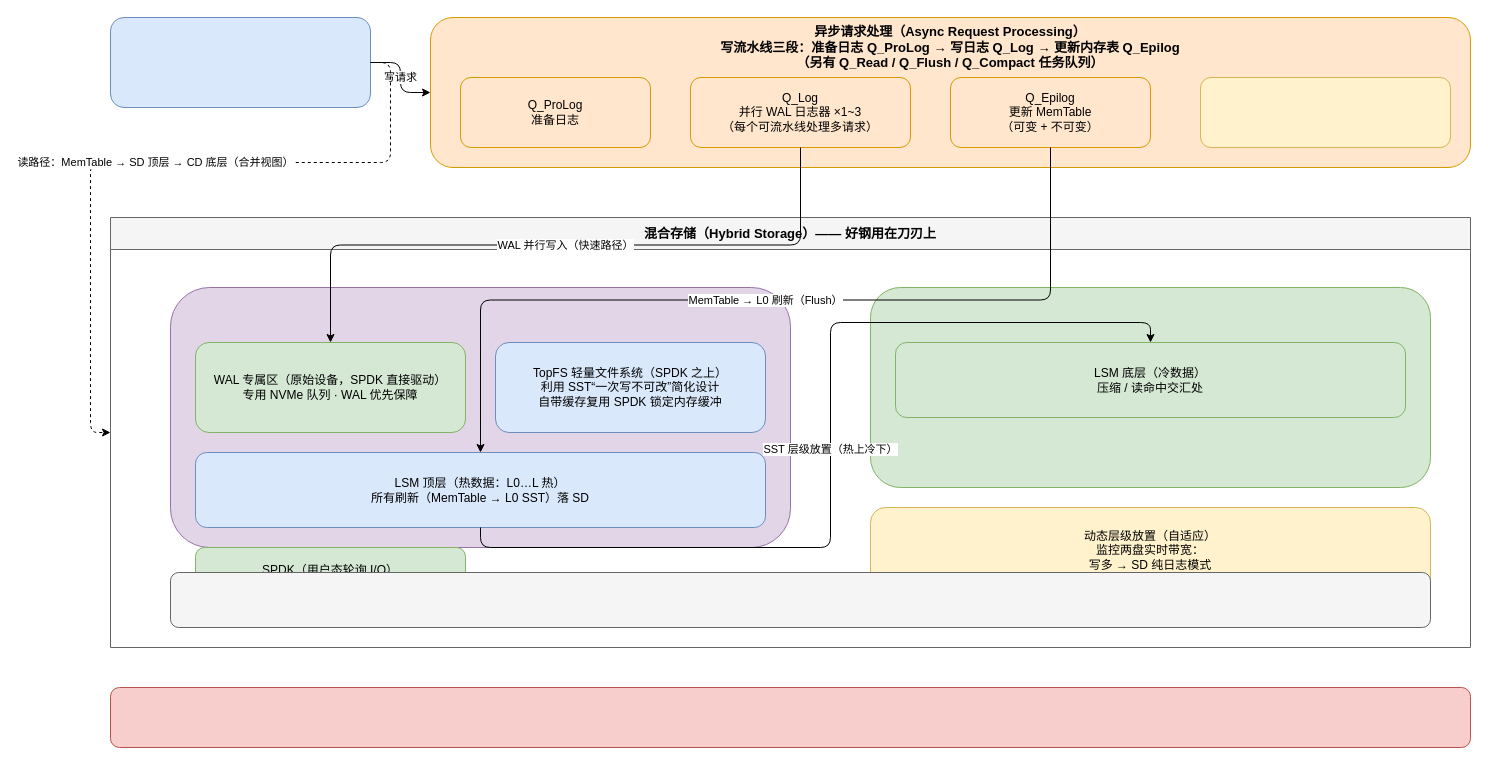
This 1488x765 diagram has some shape labels left out. The box of each missing label's shape, as (x1, y1, x2, y2) in pixels:
CD 容量盘（大 · 慢 · 便宜，普通 NVMe） LSM 底层（冷数据“树桩”，占大多数） 走文件系统（ext4）+ OS 页面缓存: (870, 286, 1430, 488)
Q_Read / Q_Flush / Q_Compact 读请求 · 刷盘 · 压缩任务（后台限流： I/O 请求 1MB→64KB，限制线程数）: (1200, 76, 1450, 148)
SD 速度盘（小 · 快 · 贵，如 Optane）: (170, 286, 790, 548)
局限：SPDK 独占设备无法多实例共享；全读无加速；CPU 轮询能耗高（94.5% vs 63.7%）: (110, 686, 1470, 748)
应用 / KV 客户端 写（put）· 读（get）· 扫描: (110, 16, 370, 108)
收益：全写 +7.6~8.8 倍（YCSB）；YCSB-A +2.6~4.0 倍； P90/P99 尾延迟 -1.4~2.6 倍；成本约为全高端部署的 1/4: (170, 572, 1430, 628)
